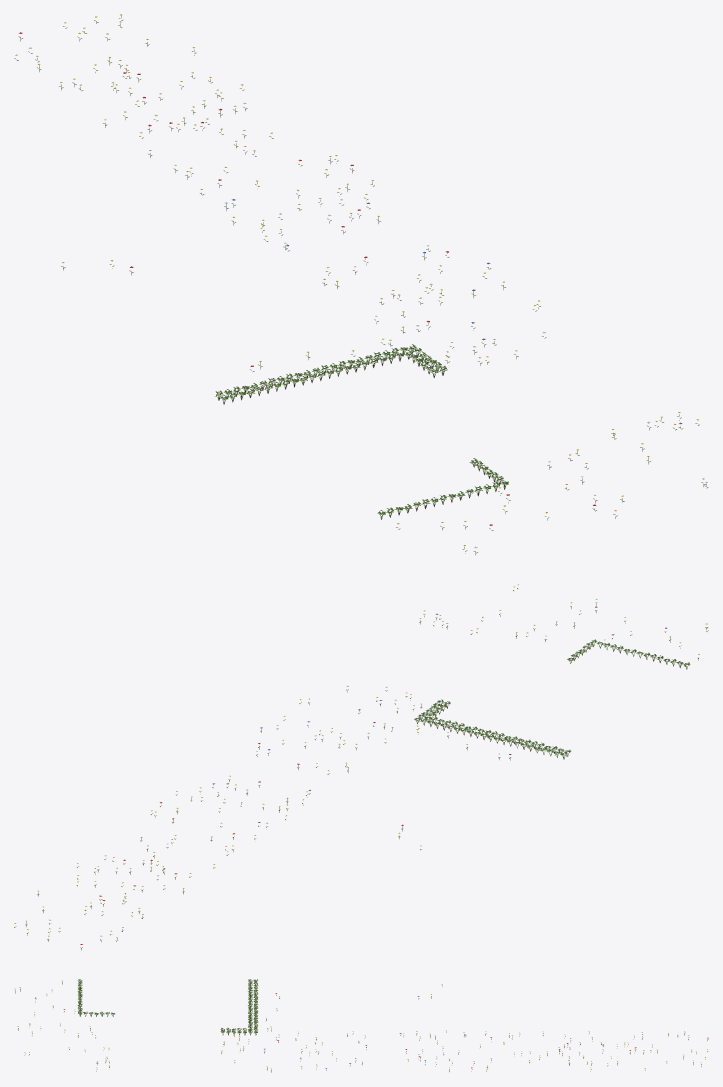
3 views of the same model, one above another, from view 1: azimuth 30°, elevation 25°; view 2: azimuth 150°, elevation 25°; view 3: azimuth 270°, elevation 25° (orthographic). The views are drawn at different scales.
Visible parts, largest first — view 1: GROUND_FLORA_s_-4_-5; view 2: GROUND_FLORA_s_-4_-5; view 3: GROUND_FLORA_s_-4_-5.
Boxes of the visible parts, x1,y1,x2,y2 form: GROUND_FLORA_s_-4_-5: (14,14,708,555); GROUND_FLORA_s_-4_-5: (14,584,708,950); GROUND_FLORA_s_-4_-5: (14,979,708,1072).
Size of the model in its own units: 38.84 by 0.9729 by 127.
